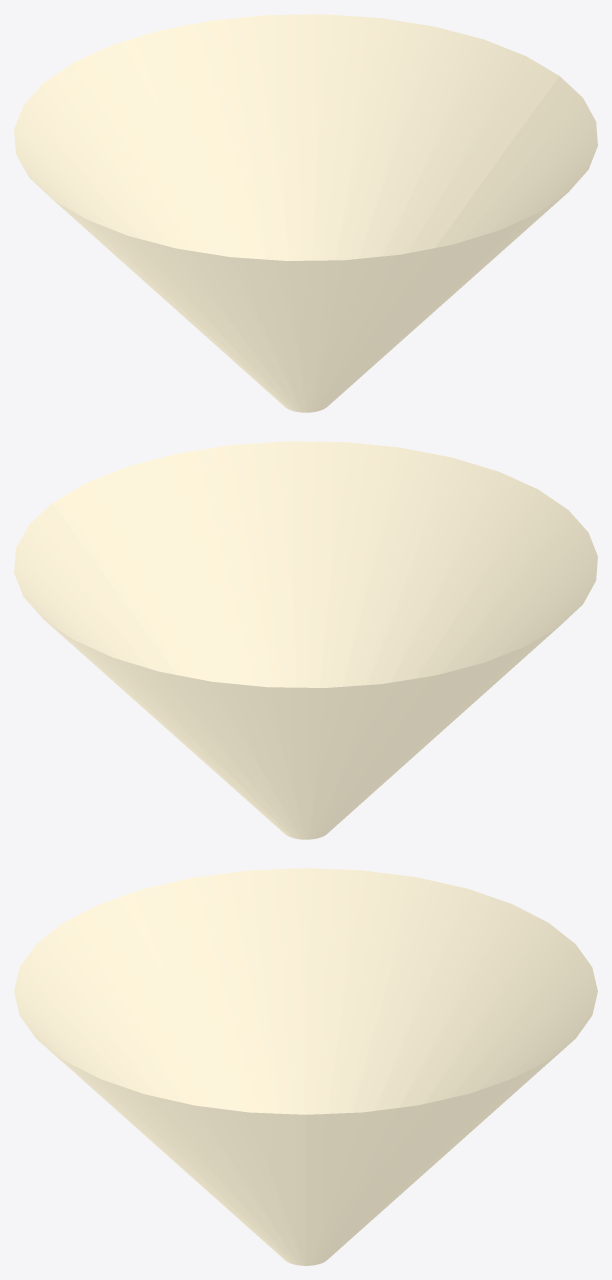
Rendered from mwx_searchbeam.glb.
The picture shows the model from 3 angles, top to bottom: view 1: azimuth 30°, elevation 25°; view 2: azimuth 150°, elevation 25°; view 3: azimuth 270°, elevation 25°; orthographic projection.
Parts seen in each view (by area): view 1: mwx_searchbeam; view 2: mwx_searchbeam; view 3: mwx_searchbeam.
Boxes of the visible parts, x1,y1,x2,y2 form: mwx_searchbeam: (14, 14, 597, 412); mwx_searchbeam: (14, 441, 597, 839); mwx_searchbeam: (14, 868, 597, 1265).
Bounding box in the file's own units: 2 × 1 × 2.
Materials: 1 (1 with a texture image).
